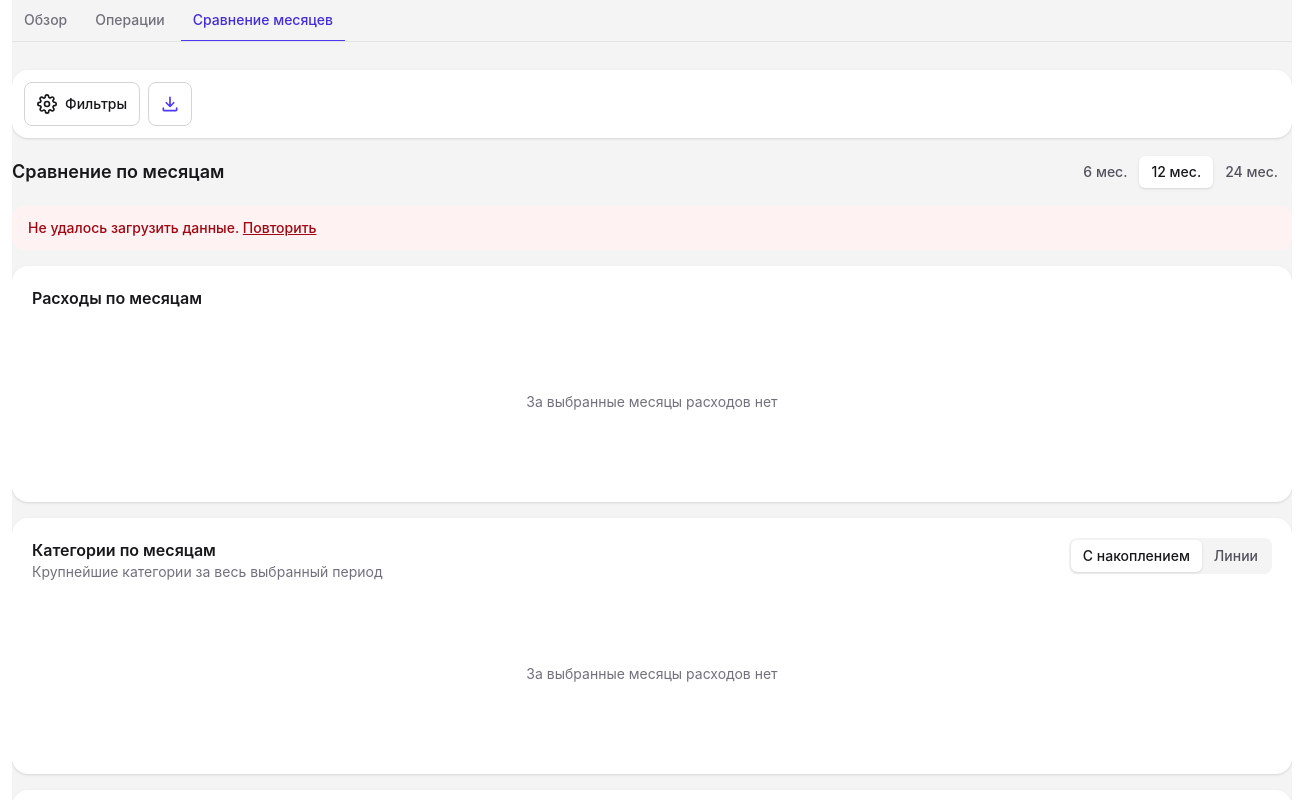
Test: состояния › ошибка загрузки: сообщение и повтор
Check: the message shows "Не удалось загрузить данные", box [28, 219, 239, 236]
Click the button "Повторить": (280, 228) [243, 218, 316, 238]
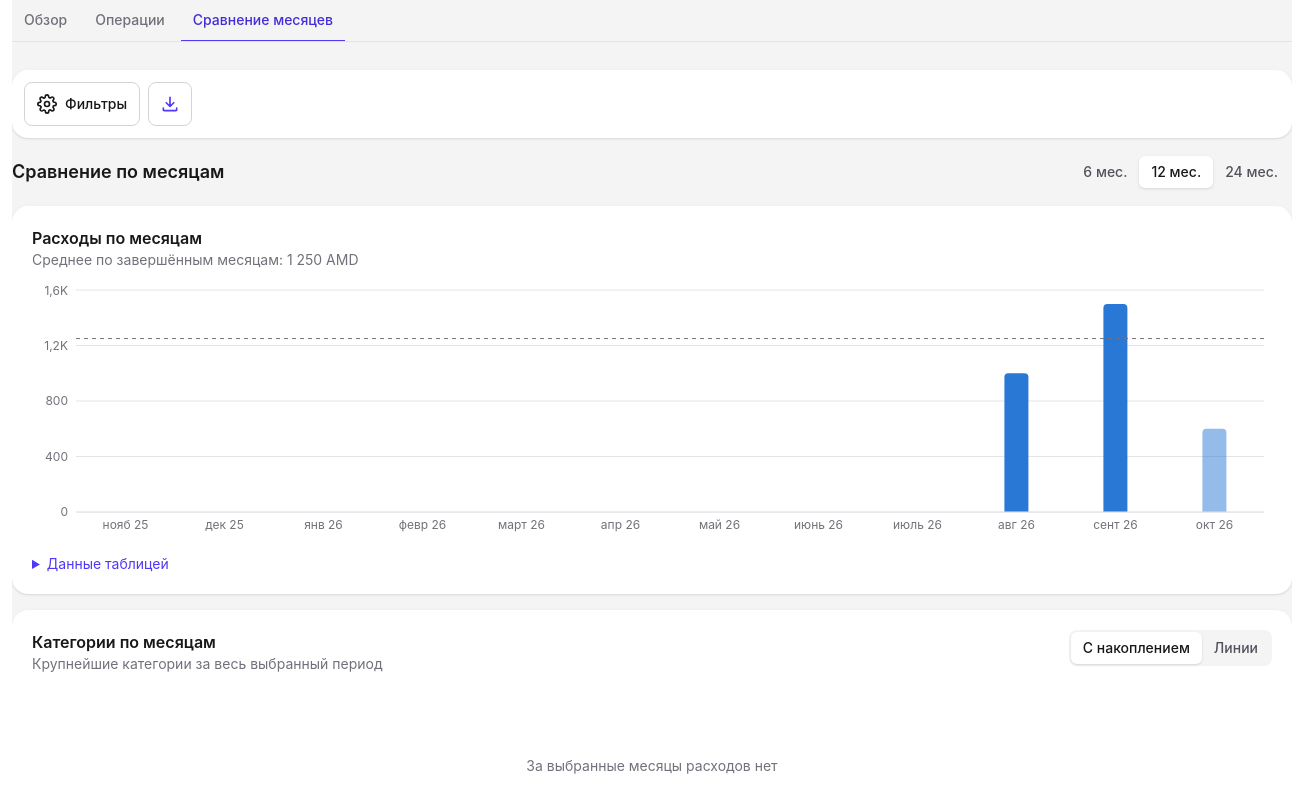
Check: the message "Не удалось загрузить данные. Повторить" is gone
